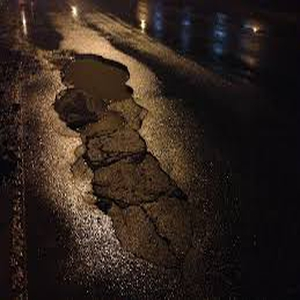pothole: (50, 49, 148, 130)
